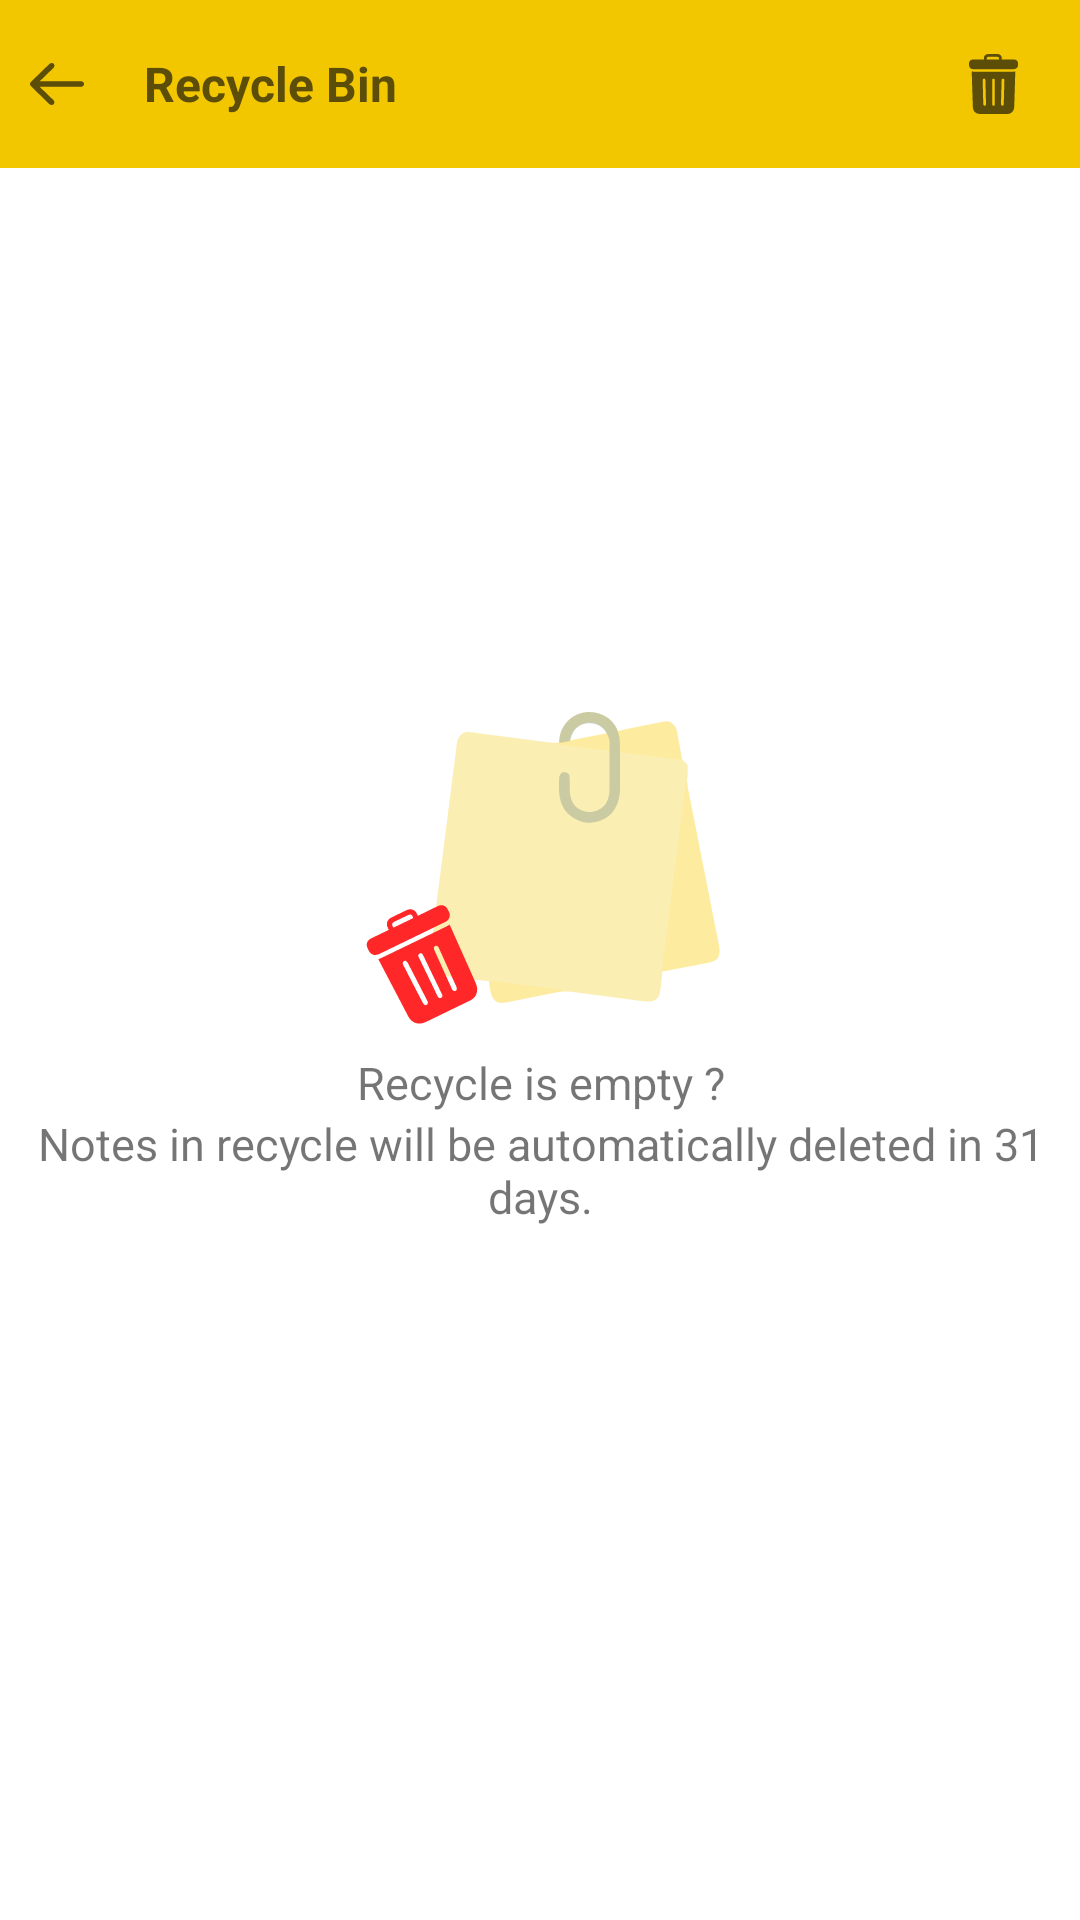

Named icons in this screenshot (1080x1920) and their bounding boxes, [left=x1, top=y1, right=x2, bottom=y2]:
back: [left=30, top=63, right=84, bottom=105]
